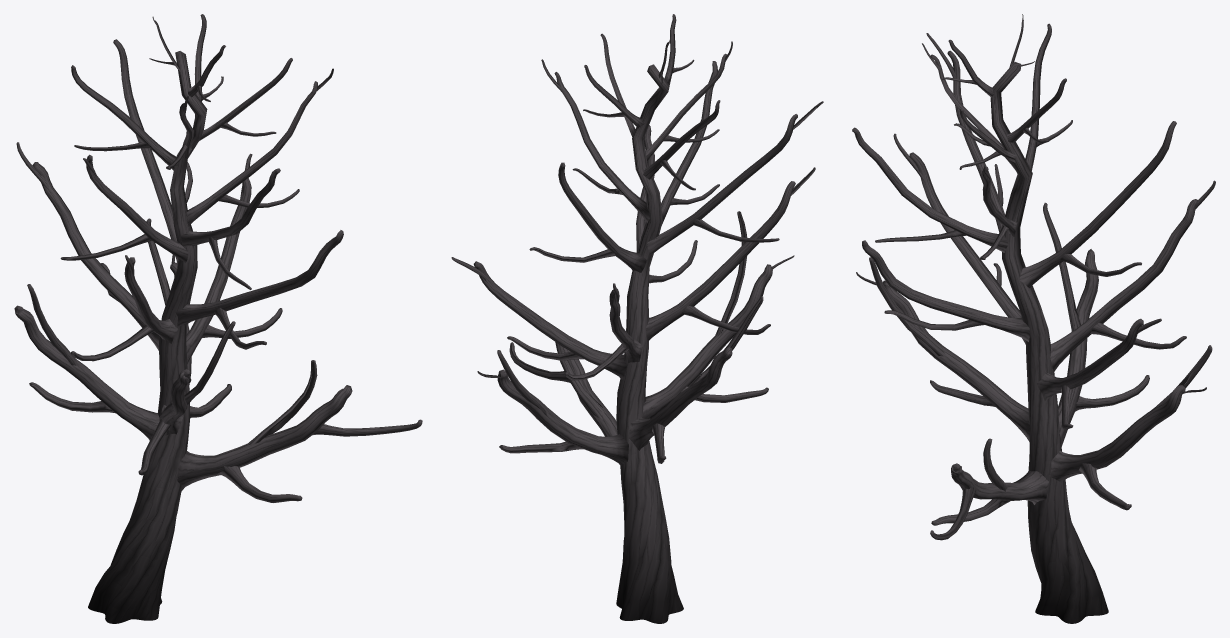
Rendered from DeadTree_2.glb.
3 views of the same model, side by side, from view 1: azimuth 30°, elevation 25°; view 2: azimuth 150°, elevation 25°; view 3: azimuth 270°, elevation 25° (orthographic). The views are drawn at different scales.
Visible parts, largest first — view 1: DeadTree_2; view 2: DeadTree_2; view 3: DeadTree_2.
Boxes of the visible parts, <box> form: DeadTree_2: <box>14,14,422,623</box>; DeadTree_2: <box>451,14,823,623</box>; DeadTree_2: <box>852,14,1215,623</box>.
Bounding box in the file's own units: 6.73 × 11.49 × 6.38.
1 material, 1 textured.
